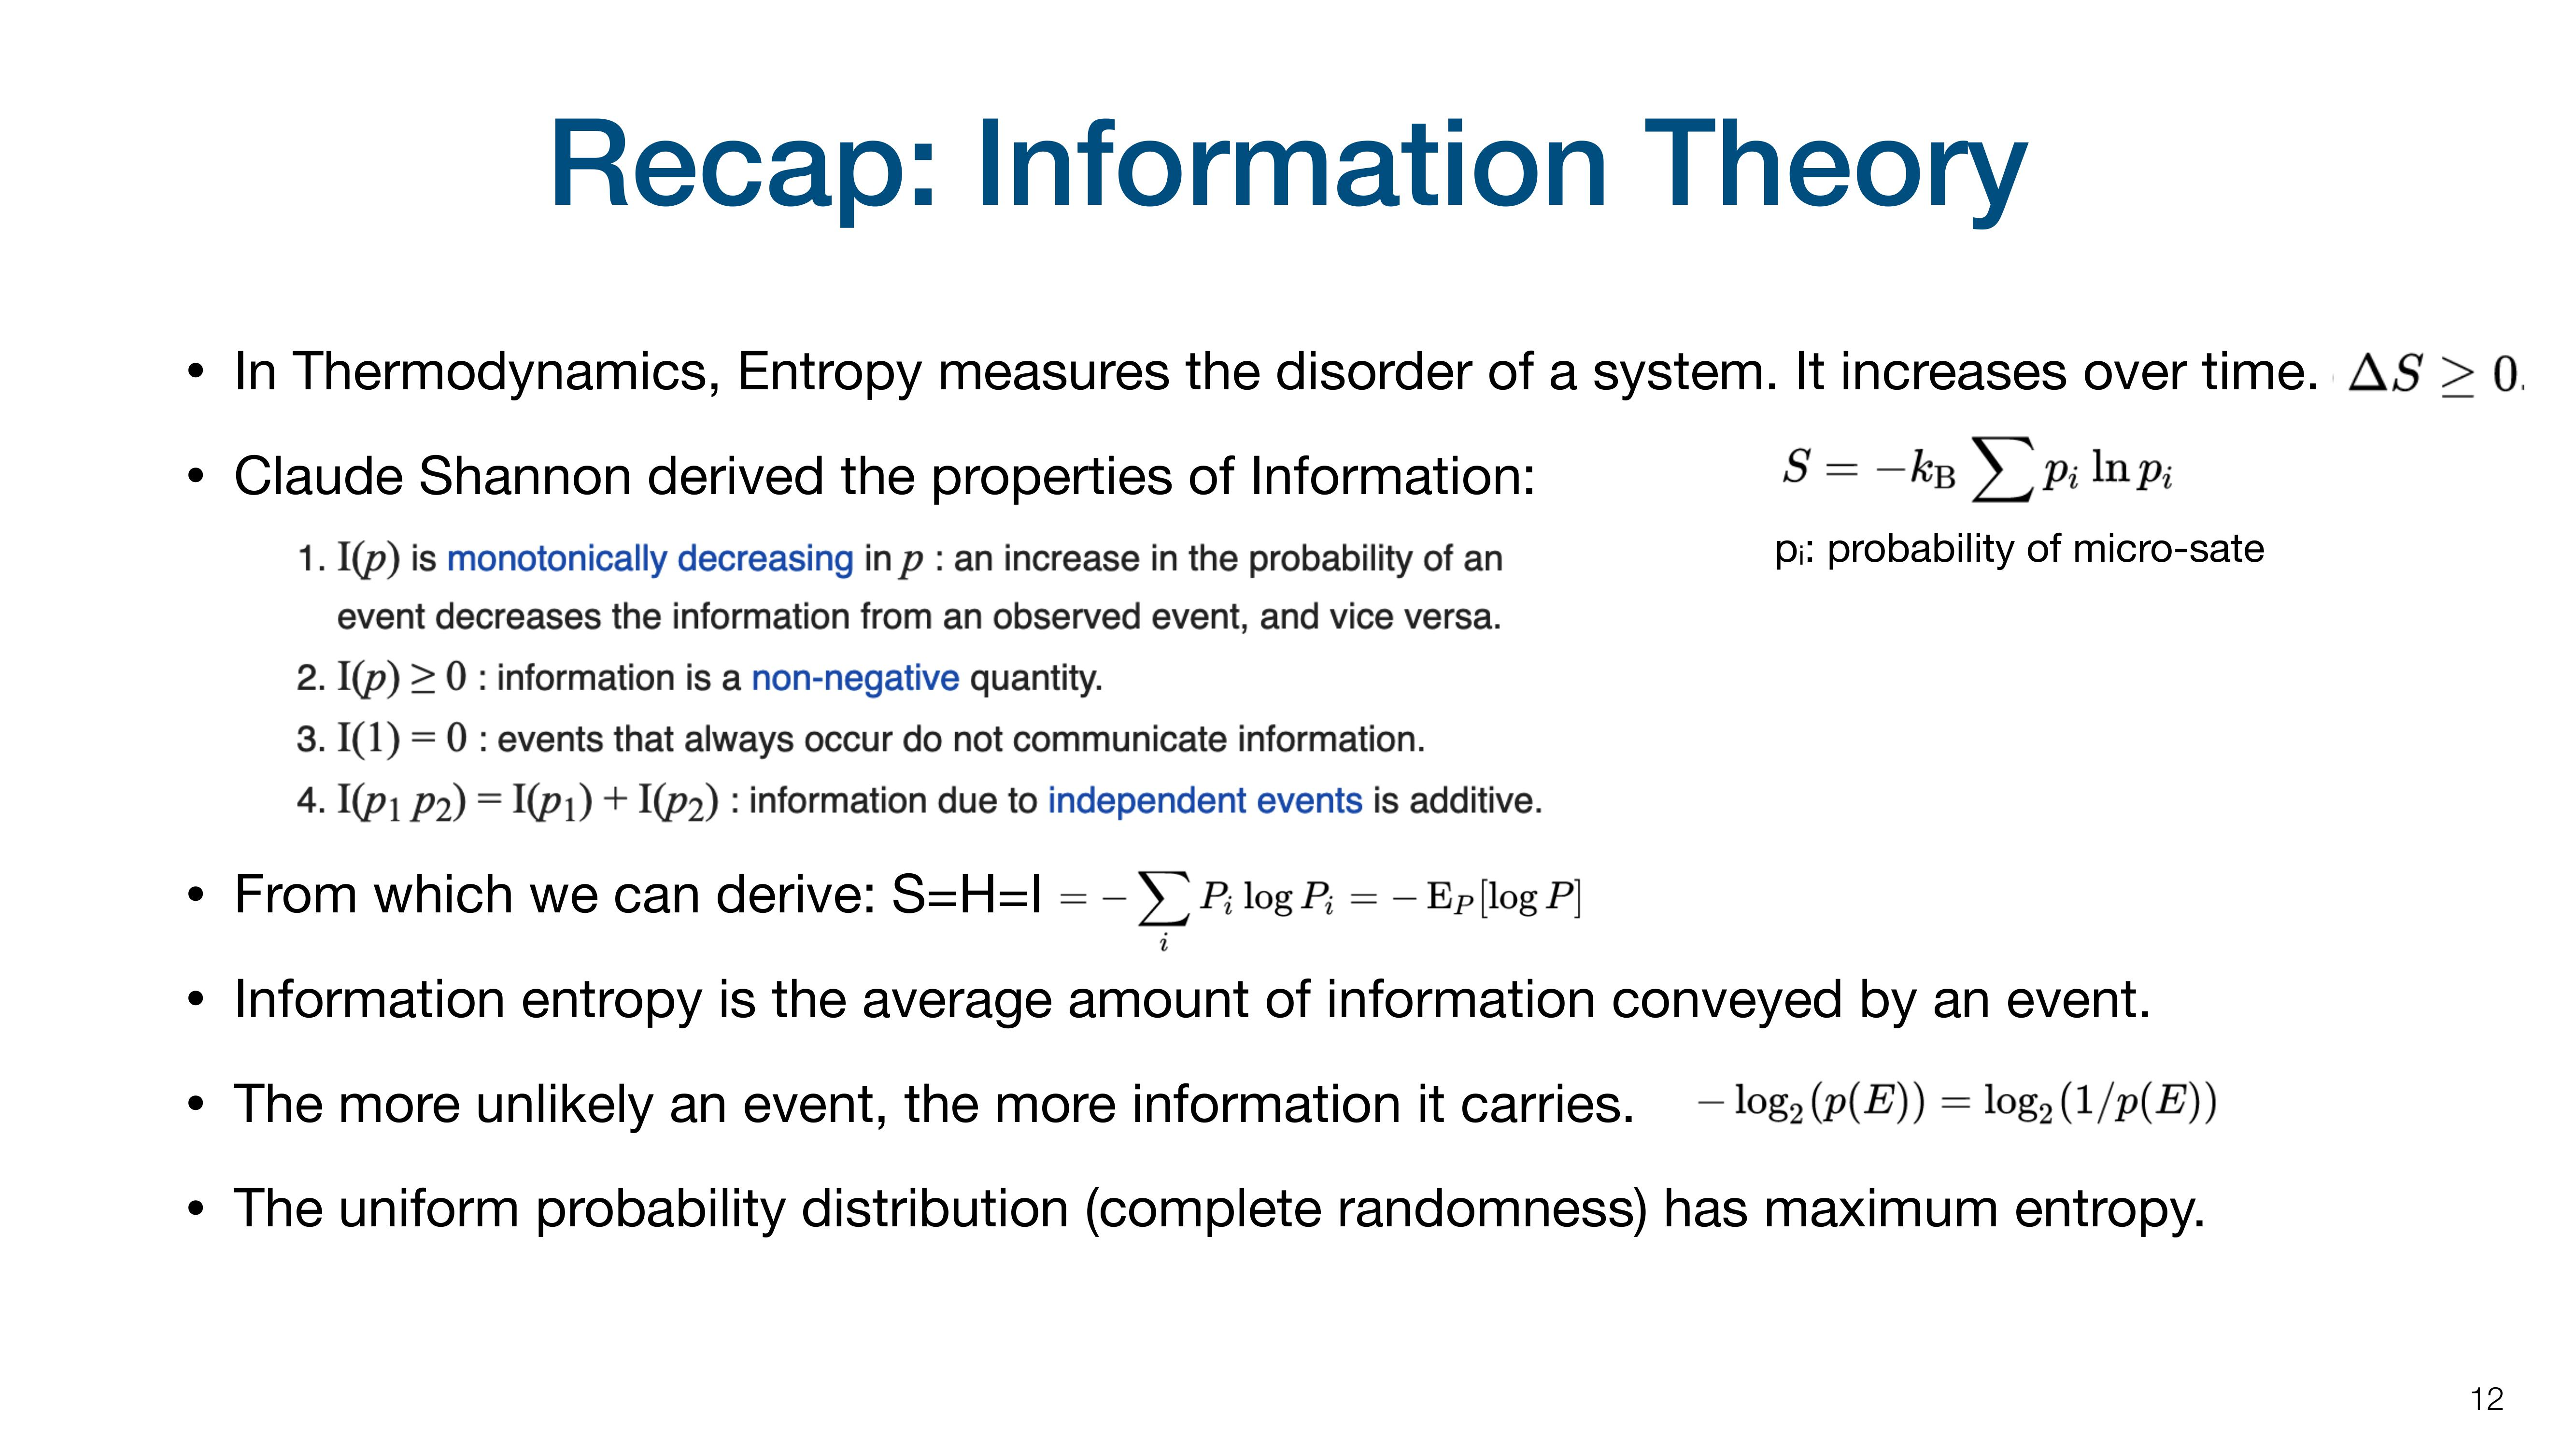Title: (511, 99, 2045, 248)
